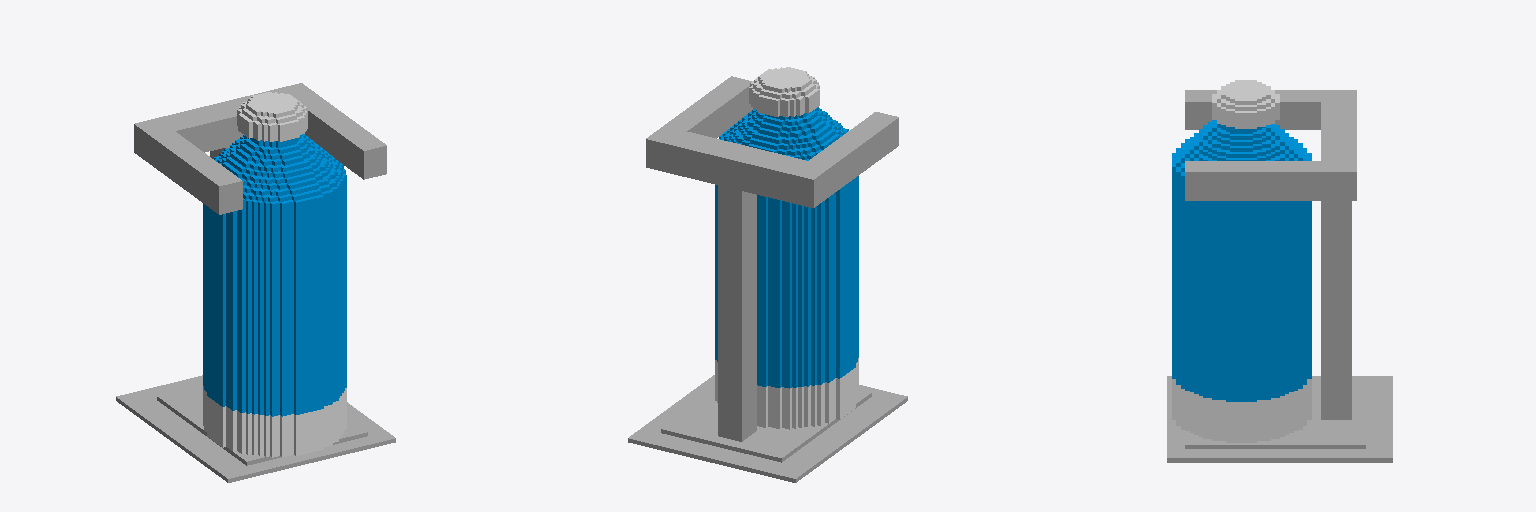
3 renders of one model, left to right at view 1: azimuth 30°, elevation 25°; view 2: azimuth 150°, elevation 25°; view 3: azimuth 270°, elevation 25°, orthographic.
Bounding box in the file's own units: 43 × 81 × 50.
1 materials, 1 textured.